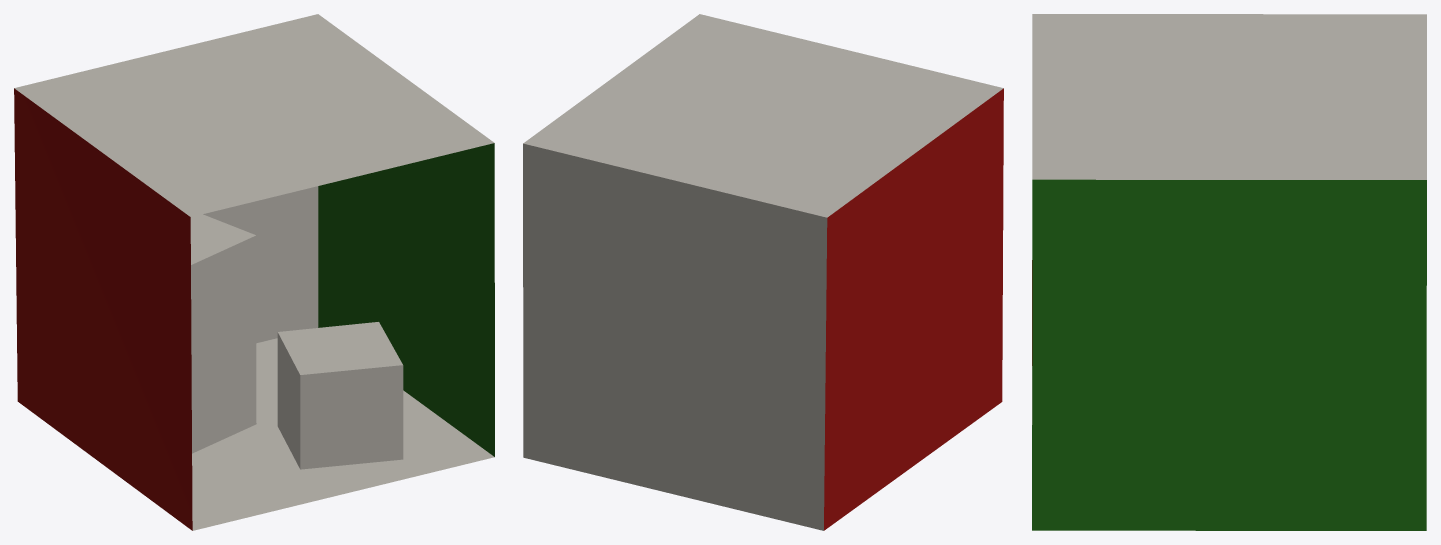
The model's file is cornell_box_sub10.obj.
3 views of the same model, side by side, from view 1: azimuth 30°, elevation 25°; view 2: azimuth 150°, elevation 25°; view 3: azimuth 270°, elevation 25° (orthographic). The views are drawn at different scales.
Visible parts, largest first — view 1: left_wall, ceiling, right_wall, floor, short_box, tall_box, back_wall; view 2: back_wall, left_wall, ceiling; view 3: right_wall, ceiling.
Boxes of the visible parts, x1=… form: left_wall: x1=14, y1=88, x2=192, y2=530; ceiling: x1=14, y1=14, x2=494, y2=216; right_wall: x1=318, y1=143, x2=494, y2=456; floor: x1=192, y1=338, x2=494, y2=530; short_box: x1=277, y1=322, x2=403, y2=469; tall_box: x1=190, y1=214, x2=256, y2=453; back_wall: x1=203, y1=186, x2=318, y2=343; back_wall: x1=523, y1=143, x2=827, y2=530; left_wall: x1=824, y1=88, x2=1003, y2=530; ceiling: x1=523, y1=14, x2=1003, y2=217; right_wall: x1=1032, y1=179, x2=1426, y2=530; ceiling: x1=1032, y1=14, x2=1426, y2=179.
Size of the model in its own units: 5.56 by 5.49 by 5.6.
